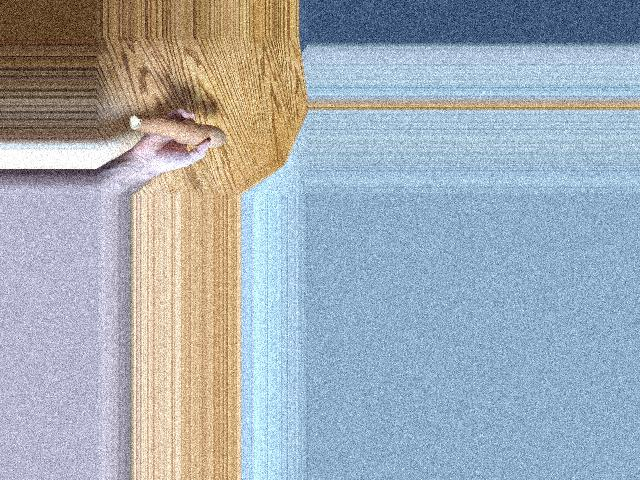sweet_potato: (121, 113, 229, 143)
